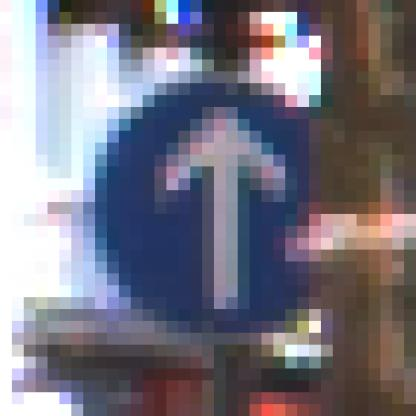AheadOnly: (72, 72, 358, 358)
